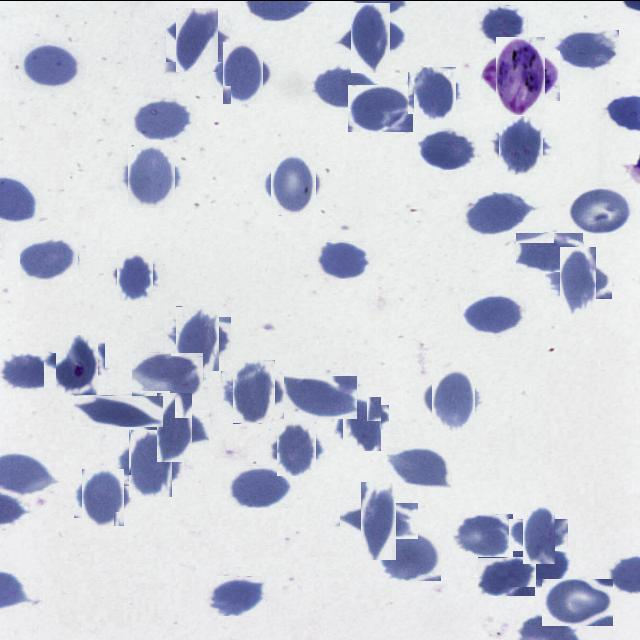red blood cell: (542, 578, 613, 625), (132, 351, 204, 397), (284, 374, 358, 418), (350, 492, 408, 548), (377, 530, 441, 580), (569, 185, 635, 233), (124, 148, 180, 204), (122, 435, 178, 491), (462, 192, 533, 236), (348, 84, 413, 131), (170, 310, 224, 364), (344, 10, 398, 64), (170, 12, 224, 66), (74, 394, 164, 426), (227, 364, 280, 418), (266, 157, 320, 210), (48, 337, 101, 391), (19, 42, 82, 87), (147, 400, 200, 453), (227, 465, 293, 507), (552, 253, 604, 306), (387, 445, 452, 487), (516, 231, 584, 271), (20, 235, 79, 281), (553, 29, 619, 70), (427, 374, 479, 426), (496, 118, 548, 170), (132, 97, 195, 139), (460, 294, 526, 334), (453, 513, 513, 557), (508, 542, 568, 586), (418, 127, 479, 169), (311, 66, 375, 106), (218, 47, 268, 98), (78, 471, 128, 521), (209, 575, 267, 615), (272, 424, 320, 472), (411, 68, 459, 116), (478, 556, 536, 595), (338, 399, 385, 446), (317, 240, 372, 278), (2, 352, 56, 390), (516, 512, 561, 556), (479, 4, 528, 43), (114, 254, 156, 296)
trophozoite: (489, 43, 553, 107)
